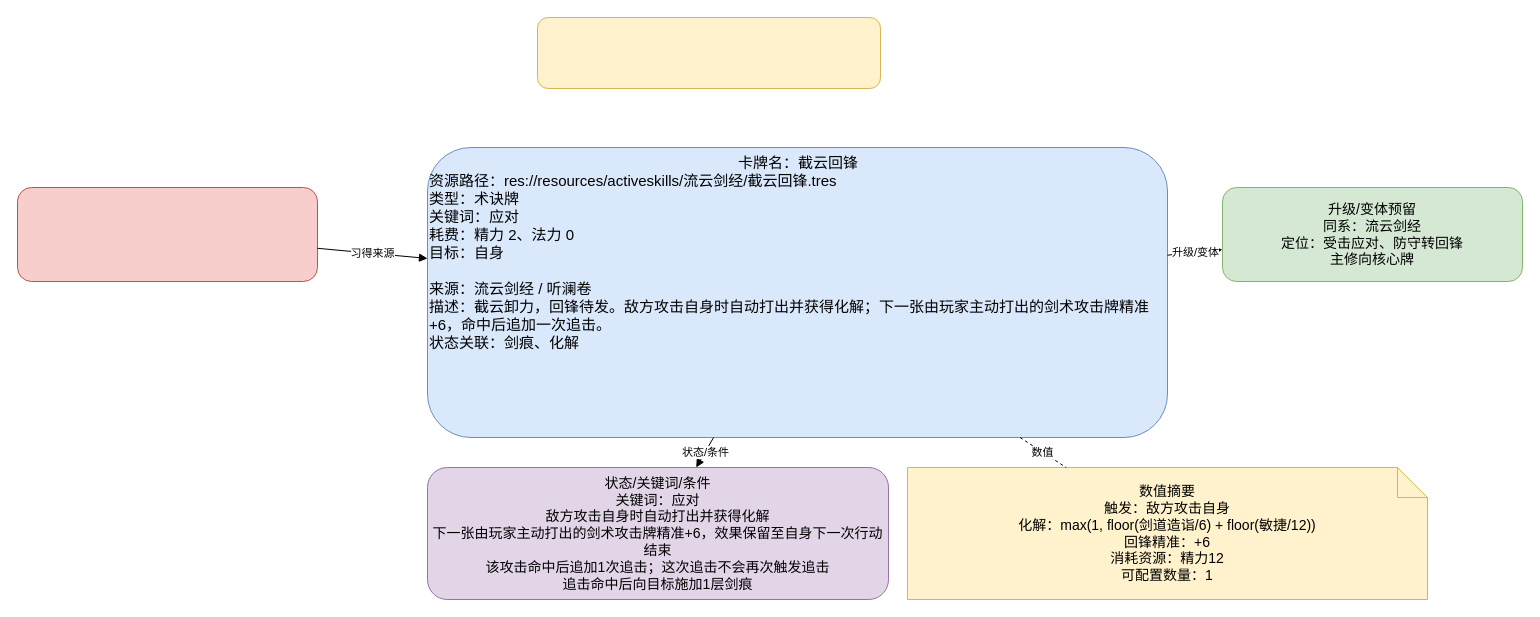
The diagram is 1540 pixels wide and 617 high, and some of its shapes have lost their labels. Here are the shapes that lost their labels. From the top down, the box of each, then its label:
(536, 16, 880, 88): 截云回锋 流云剑经 / 听澜卷 / 主修习得*1
(16, 186, 318, 282): 习得来源 来源秘籍：流云剑经 来源卷：听澜卷 主修习得数量：1
